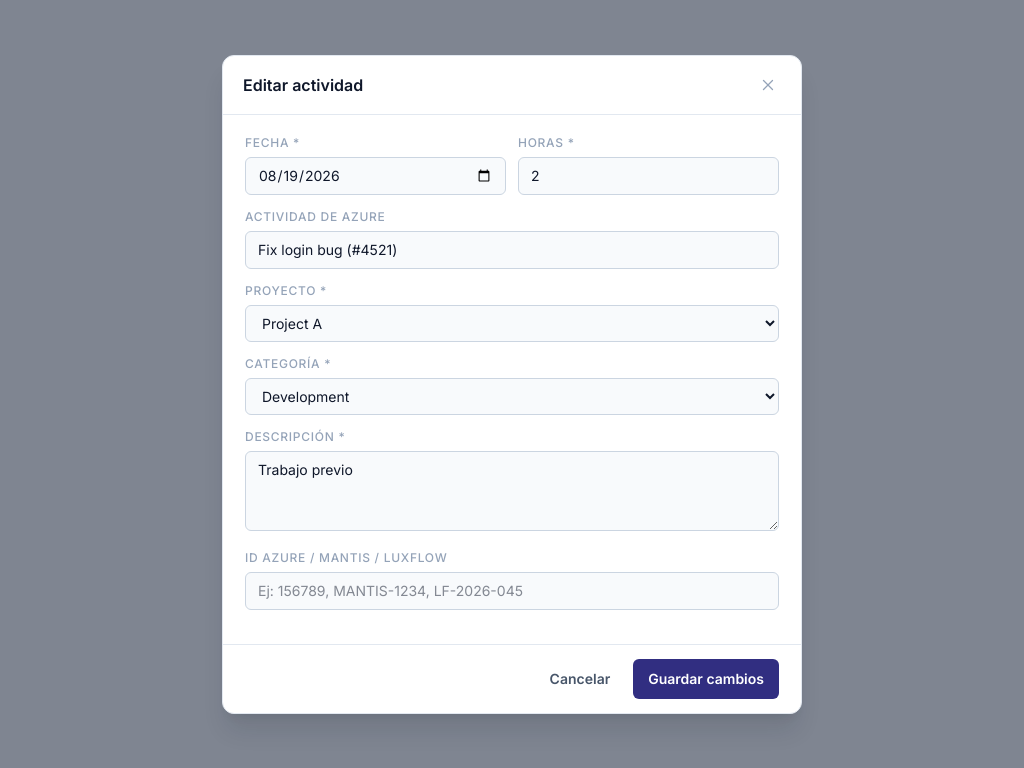
Scenario: EditActivityModal date › requires a date
Clear the date field named "Fecha *" at (376, 176), box [245,156,506,194]
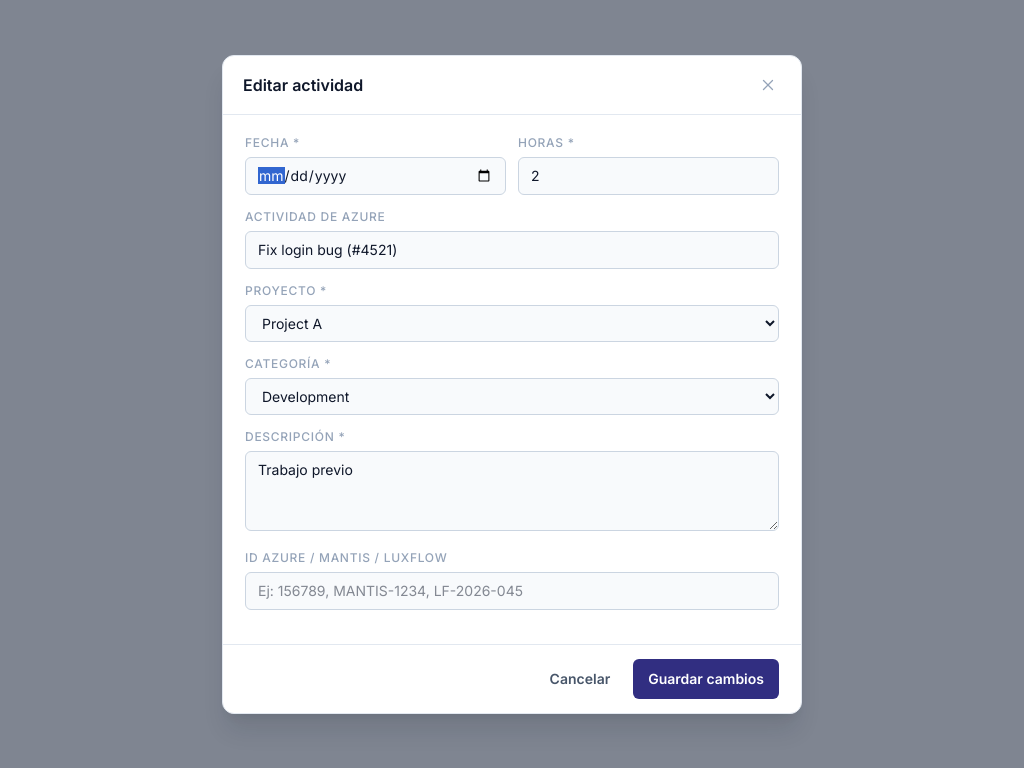
Click the button "Guardar cambios".
click(706, 678)  # box [633,658,779,698]
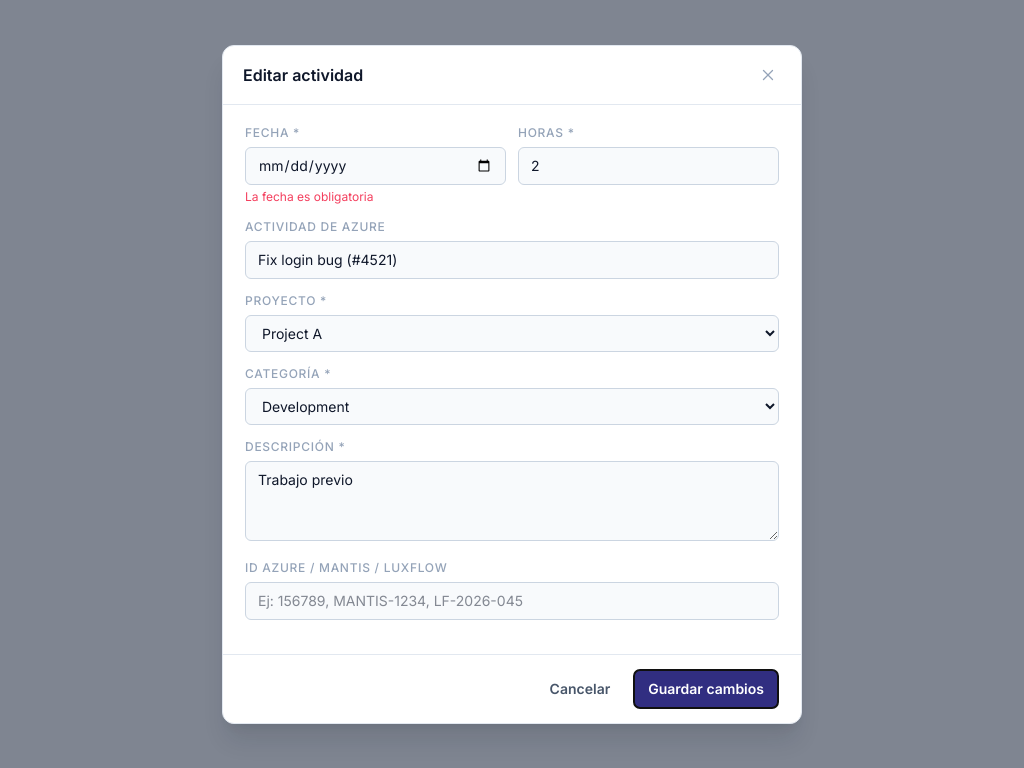
Check: the text "La fecha es obligatoria" is shown, box [245,188,374,204]
